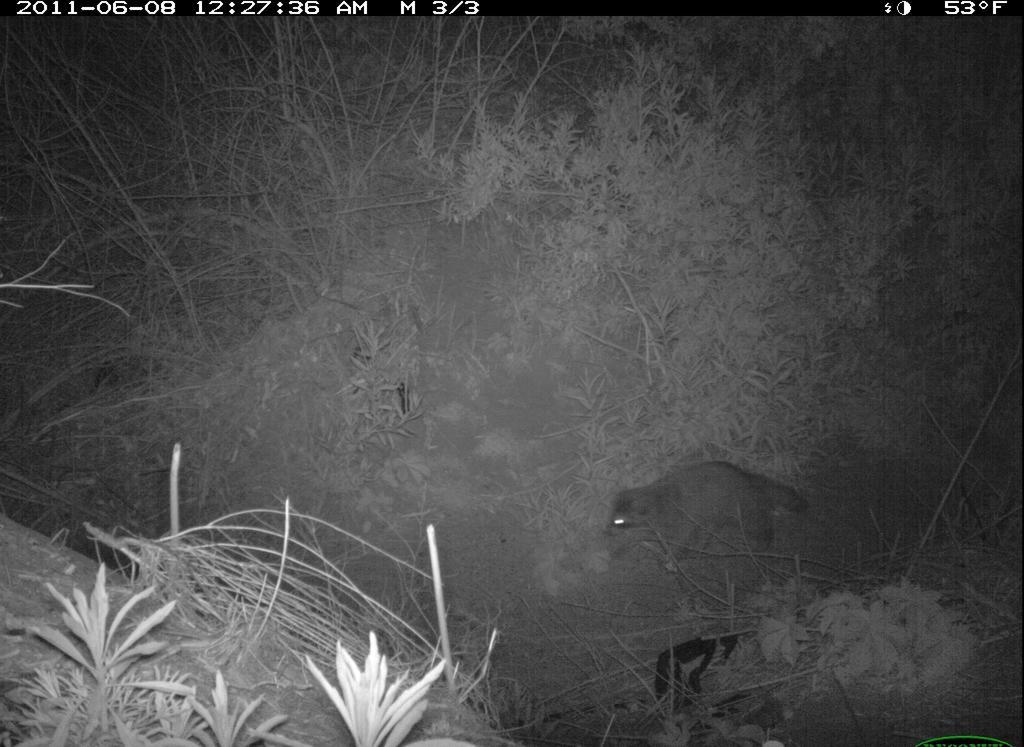raccoon: (594, 449, 826, 578)
